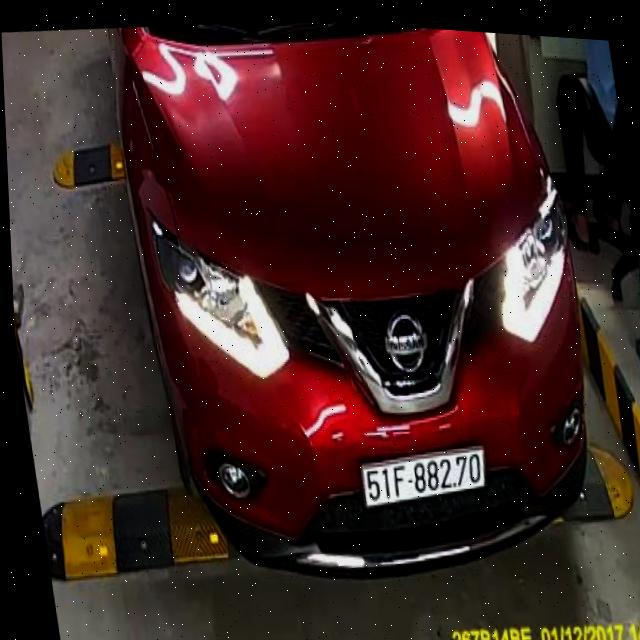car: (99, 7, 628, 617)
plate: (357, 438, 492, 517)
